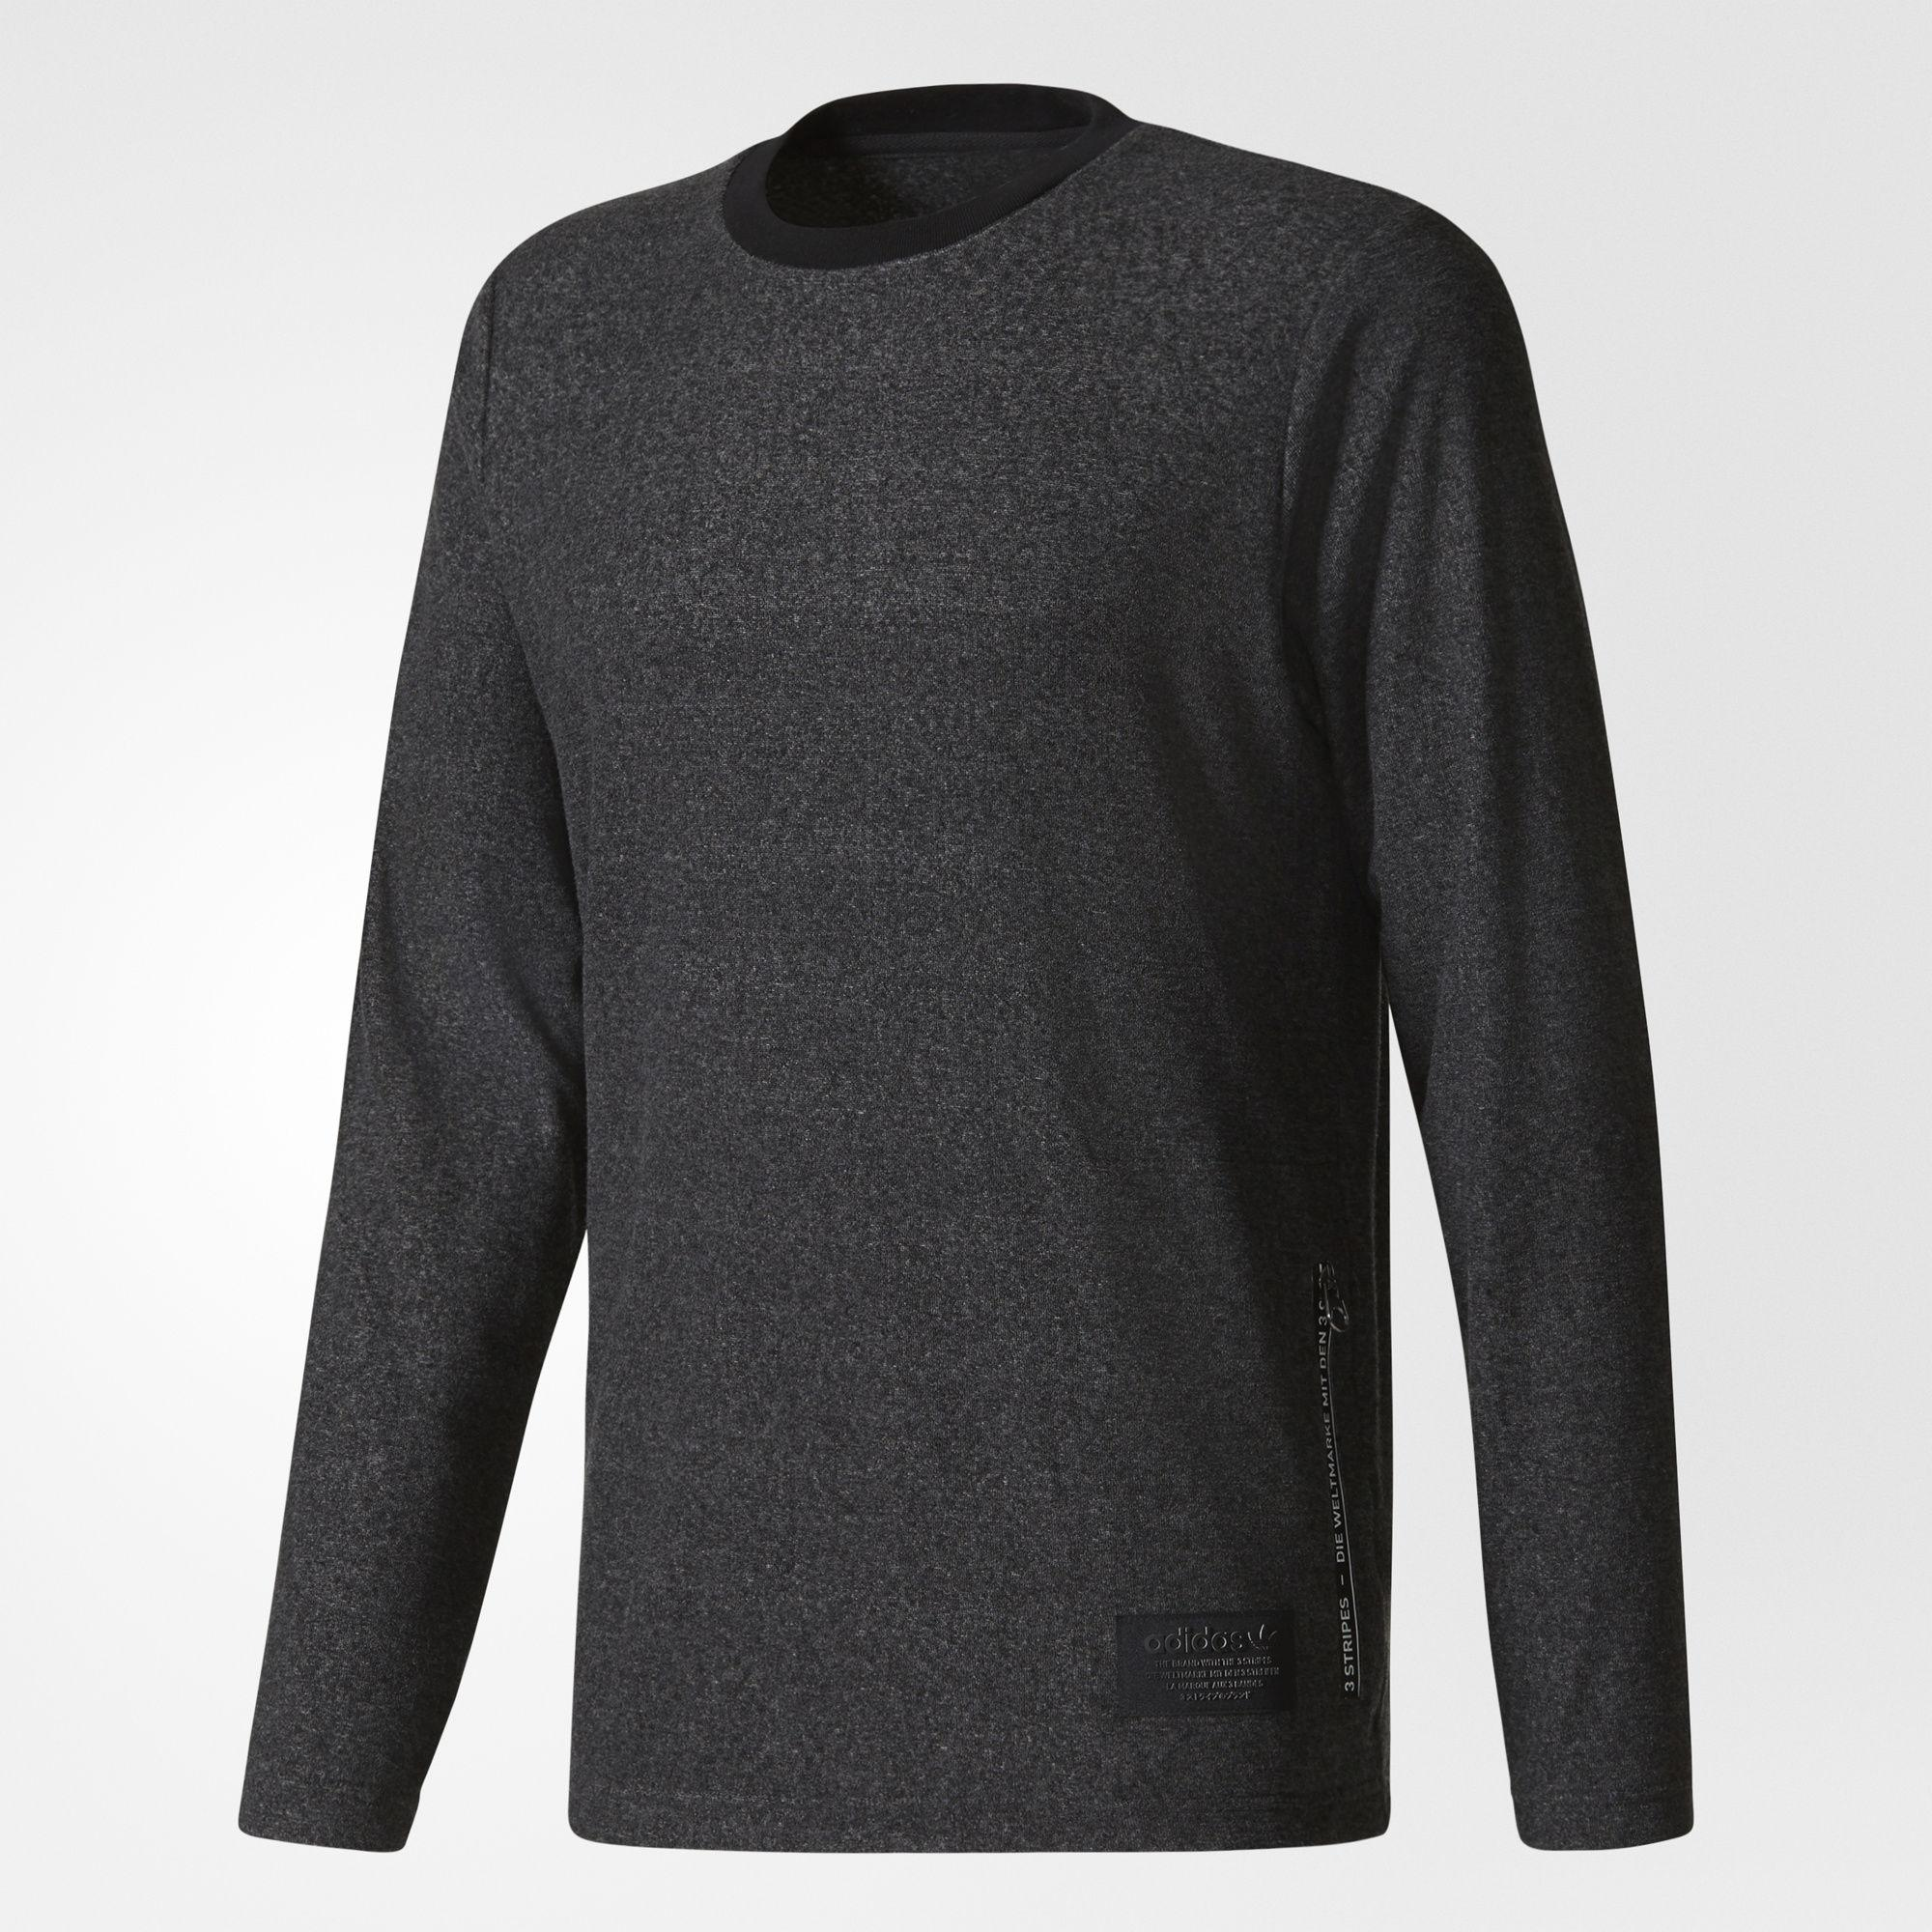teeshirt: (7, 7, 1925, 1925)
